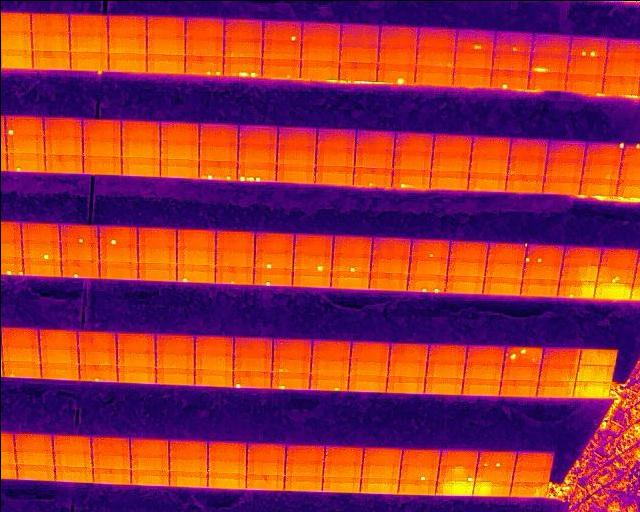Cell: (353, 166, 393, 187), (262, 19, 300, 41), (69, 51, 108, 72), (4, 114, 44, 134), (455, 28, 493, 49), (261, 58, 300, 78), (410, 238, 449, 258), (59, 223, 98, 243), (494, 30, 531, 51), (214, 265, 254, 284), (232, 369, 271, 388), (175, 265, 214, 284), (59, 258, 98, 277), (330, 252, 369, 271), (6, 152, 45, 171), (22, 240, 60, 259), (392, 168, 430, 187), (253, 250, 293, 268), (98, 226, 138, 244), (491, 69, 528, 88), (308, 372, 347, 390), (253, 267, 292, 285), (292, 253, 331, 271), (486, 243, 525, 261), (584, 142, 622, 160), (1, 360, 41, 377), (270, 371, 309, 388), (78, 364, 117, 381), (377, 64, 415, 81), (398, 464, 438, 480), (557, 280, 594, 297), (437, 466, 476, 481)
Cell-Multi: (183, 55, 222, 75), (198, 159, 237, 179), (223, 56, 261, 76), (568, 36, 607, 55), (406, 273, 445, 292), (236, 161, 275, 180), (597, 264, 635, 282), (526, 245, 562, 264), (271, 354, 310, 371), (504, 345, 543, 362), (407, 257, 446, 274), (477, 450, 516, 466)
No-Anomaly: (370, 235, 411, 256), (453, 66, 490, 89), (415, 65, 453, 87), (222, 19, 263, 39), (291, 233, 332, 253), (393, 131, 434, 151), (237, 141, 276, 162), (67, 13, 107, 33), (20, 222, 60, 242), (199, 140, 237, 161), (107, 52, 146, 72), (416, 45, 455, 65), (377, 25, 416, 45), (145, 15, 184, 35), (276, 144, 315, 164), (316, 126, 355, 146), (447, 241, 488, 260), (31, 50, 71, 69), (300, 22, 340, 41), (175, 246, 215, 265), (253, 232, 293, 251), (136, 225, 176, 244), (145, 53, 184, 72), (145, 35, 184, 54), (68, 32, 107, 51), (416, 27, 455, 46), (184, 18, 223, 37), (30, 12, 69, 31), (368, 271, 407, 290), (98, 260, 137, 279), (137, 244, 176, 263), (215, 229, 254, 248), (430, 169, 469, 188), (121, 156, 160, 175), (315, 146, 354, 165), (354, 148, 393, 167), (356, 128, 395, 147), (331, 235, 372, 253), (492, 50, 530, 69), (454, 47, 492, 66), (300, 41, 338, 60), (531, 33, 569, 52), (339, 26, 377, 45), (562, 246, 600, 265), (468, 170, 506, 189), (159, 156, 197, 175), (45, 154, 83, 173), (83, 154, 121, 173), (121, 136, 159, 155), (83, 135, 121, 154), (44, 134, 82, 153), (43, 116, 81, 135), (385, 374, 425, 392), (427, 342, 467, 360), (232, 335, 272, 353), (604, 55, 640, 75), (183, 37, 223, 55), (175, 228, 215, 246), (430, 152, 470, 170), (392, 150, 432, 168), (546, 139, 586, 157), (432, 134, 472, 152), (4, 134, 44, 152), (276, 125, 316, 143), (237, 123, 277, 141), (310, 355, 349, 373), (194, 350, 233, 368), (350, 340, 389, 358), (272, 336, 311, 354), (223, 39, 262, 57), (30, 31, 69, 49), (106, 16, 145, 34), (444, 275, 483, 293), (22, 259, 61, 277), (543, 175, 582, 193), (579, 176, 618, 194), (276, 164, 315, 182), (509, 138, 548, 156), (117, 364, 155, 382), (300, 60, 338, 78), (566, 56, 604, 74), (604, 37, 640, 56), (0, 327, 38, 345), (482, 277, 520, 295), (564, 73, 602, 91), (128, 438, 168, 455), (445, 259, 485, 276), (213, 248, 253, 265), (504, 173, 544, 190), (544, 157, 584, 174), (468, 153, 508, 170), (159, 139, 199, 156), (471, 136, 511, 153), (119, 119, 159, 136), (195, 367, 232, 385), (603, 75, 640, 93), (499, 378, 538, 395), (537, 378, 576, 395), (424, 376, 463, 393), (348, 373, 387, 390), (575, 364, 614, 381), (155, 349, 194, 366), (465, 344, 504, 361), (311, 338, 350, 355), (377, 46, 416, 63), (338, 45, 377, 62), (107, 34, 146, 51), (323, 445, 362, 462), (509, 480, 548, 497), (330, 271, 369, 288), (137, 263, 176, 280), (198, 123, 237, 140), (160, 121, 199, 138), (81, 118, 120, 135), (369, 256, 410, 272), (117, 347, 155, 364), (78, 346, 116, 363), (262, 41, 300, 58), (78, 330, 116, 347), (521, 278, 559, 295), (315, 166, 353, 183), (338, 62, 376, 79), (538, 363, 578, 379), (500, 362, 540, 378), (386, 358, 426, 374), (349, 357, 389, 373), (388, 342, 428, 358), (361, 447, 401, 463), (12, 434, 52, 450), (594, 282, 631, 299), (571, 380, 610, 396), (461, 378, 500, 394), (155, 367, 194, 383), (463, 362, 502, 378), (426, 361, 465, 377), (194, 334, 233, 350), (155, 333, 194, 349), (439, 450, 478, 466), (400, 449, 439, 465), (284, 446, 323, 462), (168, 440, 207, 456), (116, 331, 155, 347), (291, 271, 330, 287), (484, 262, 523, 278), (98, 243, 137, 259), (359, 477, 398, 493), (168, 470, 207, 486), (507, 157, 546, 173), (360, 462, 399, 478), (41, 362, 79, 378), (40, 345, 78, 361), (90, 438, 128, 454), (600, 248, 638, 264), (582, 160, 620, 176), (527, 73, 565, 89), (51, 437, 91, 452), (38, 330, 78, 345), (232, 354, 271, 369), (541, 348, 580, 363), (1, 345, 40, 360), (168, 455, 207, 470), (246, 446, 285, 461), (207, 444, 246, 459), (59, 243, 98, 258), (321, 476, 360, 491), (283, 476, 322, 491), (244, 474, 283, 489), (207, 473, 246, 488), (91, 467, 130, 482), (53, 466, 92, 481), (15, 463, 54, 478), (580, 348, 616, 364), (514, 452, 552, 467), (559, 265, 597, 280), (473, 480, 511, 495), (130, 469, 168, 484), (13, 450, 53, 464), (524, 264, 561, 279), (129, 455, 168, 469), (474, 467, 513, 481), (284, 462, 323, 476), (207, 459, 245, 473), (91, 453, 129, 467), (398, 480, 436, 494), (323, 462, 361, 476), (52, 452, 92, 465), (436, 481, 474, 494), (512, 467, 550, 480), (246, 462, 284, 475)
Unclassified: (530, 52, 567, 72)
